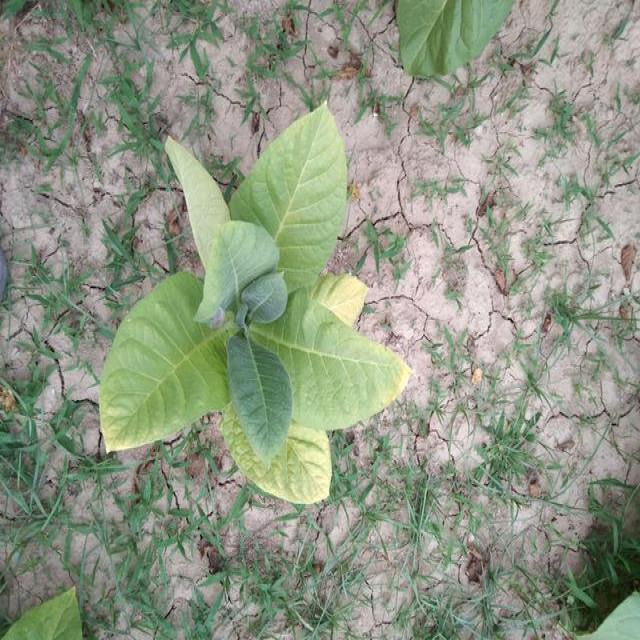crop: (93, 97, 424, 506)
